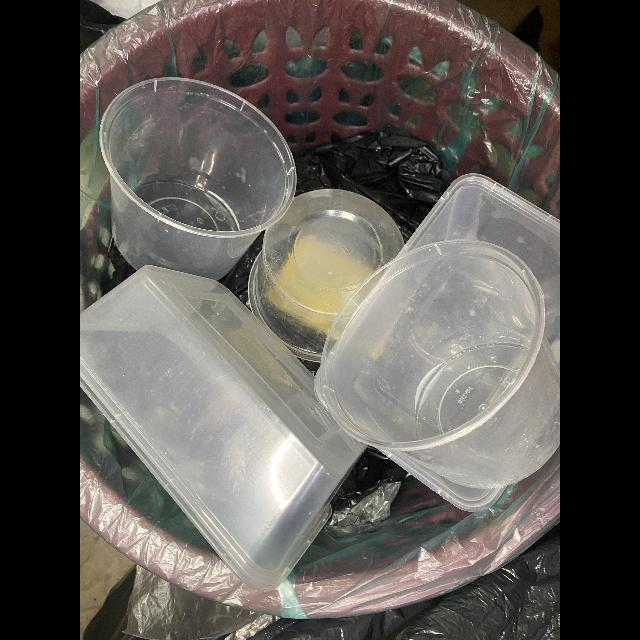plastic: (80, 267, 367, 592), (320, 240, 560, 488), (99, 77, 297, 282), (397, 174, 560, 363), (245, 189, 406, 364)
